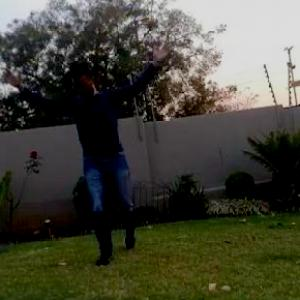takeoff: (4, 42, 171, 258)
